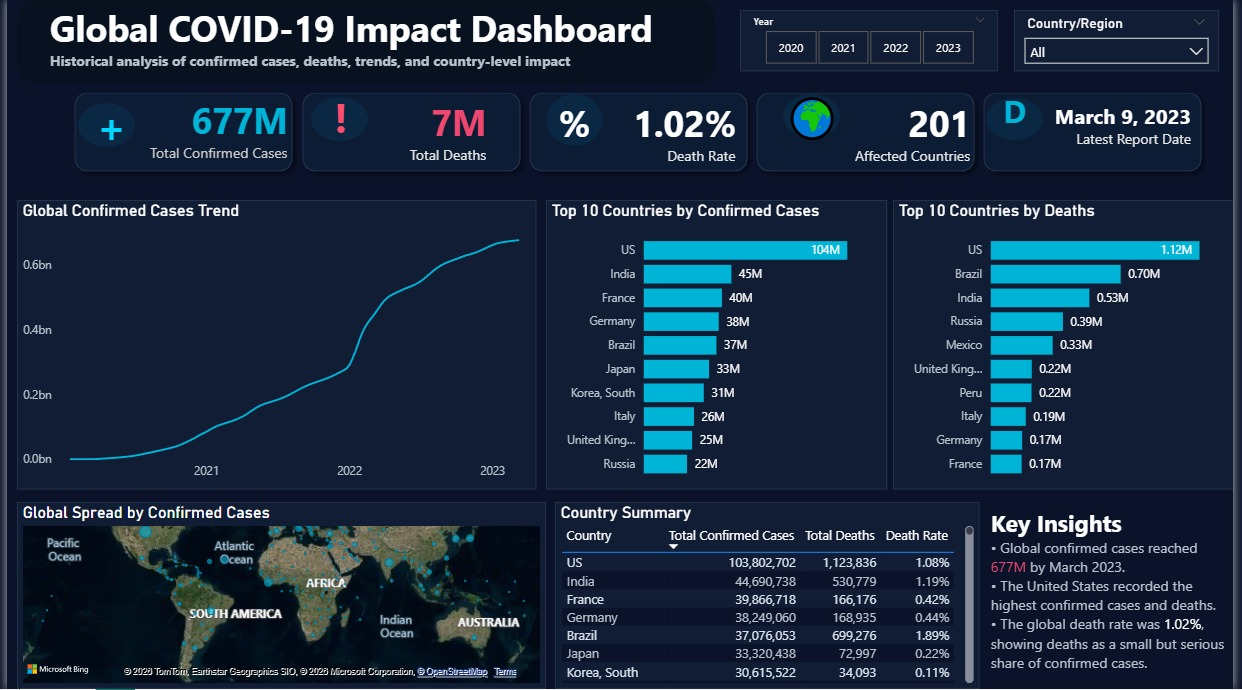

The dashboard page shown, as its layout file describes it:
{"tool":"powerbi","page":{"name":"Page 1","canvas":[1280,720],"ordinal":0},"visuals":[{"type":"shape","box":[10.1,0,729,88.9],"z":0},{"type":"textbox","box":[39.4,0,667.1,88.9],"z":1000},{"type":"slicer","fields":{"Values":["Covid-Data.Year"]},"box":[765,11.2,268.9,64.1],"z":2000},{"type":"slicer","fields":{"Values":["Covid-Data.Country/Region"]},"box":[1050.8,11.2,213.8,64.1],"z":3000},{"type":"shape","box":[61.9,88.9,245.2,100.1],"z":4000},{"type":"textbox","box":[63,95.6,235.1,84.4],"z":5000},{"type":"shape","box":[299,88.9,245.2,100.1],"z":6000},{"type":"shape","box":[536.1,88.9,245.2,100.1],"z":7000},{"type":"shape","box":[773.2,88.9,245.2,100.1],"z":8000},{"type":"shape","box":[1010.2,88.9,245.2,100.1],"z":9000},{"type":"textbox","box":[810,99,200.2,81],"z":10000},{"type":"textbox","box":[1039.5,102.4,201.4,160.9],"z":11000},{"type":"textbox","box":[347.6,97.9,157.5,91.1],"z":12000},{"type":"textbox","box":[585,99,180,81],"z":13000},{"type":"shape","box":[74.2,108,59.6,46.1],"z":14000},{"type":"textbox","box":[74.2,97.9,69.8,82.1],"z":15000},{"type":"shape","box":[810,99,59.6,46.1],"z":16000},{"type":"shape","box":[1021.5,103.5,59.6,43.9],"z":17000},{"type":"shape","box":[562.5,99,59.6,54],"z":18000},{"type":"shape","box":[317.2,102.4,59.6,46.1],"z":19000},{"type":"textbox","box":[307.1,88.9,83.2,72],"z":20000},{"type":"textbox","box":[562.5,99,59.6,59.6],"z":21000},{"type":"textbox","box":[1021.5,90,59.6,70.9],"z":22000},{"type":"textbox","box":[795.4,88.9,90,72],"z":23000},{"type":"lineChart","title":"Global Confirmed Cases Trend","fields":{"Y":["Covid-Data.Total Confirmed Cases"],"Category":["Covid-Data.Date"]},"box":[10.1,209.2,542.2,301.5],"z":24000},{"type":"clusteredBarChart","title":"Top 10 Countries by Confirmed Cases","fields":{"Category":["Covid-Data.Country/Region"],"Y":["Covid-Data.Total Confirmed Cases"]},"box":[562.5,209.2,355.5,301.5],"z":25000},{"type":"clusteredBarChart","title":"Top 10 Countries by Deaths","fields":{"Category":["Covid-Data.Country/Region"],"Y":["Covid-Data.Total Deaths"]},"box":[924.8,209.2,355.5,301.5],"z":26000},{"type":"map","title":"Global Spread by Confirmed Cases","fields":{"Category":["Covid-Data.Country/Region"],"Size":["Covid-Data.Total Confirmed Cases"],"Y":["Avg(Covid-Data.Lat)"],"X":["Avg(Covid-Data.Long)"]},"box":[10.1,525.4,552.4,194.6],"z":27000},{"type":"tableEx","title":"Country Summary","fields":{"Values":["Covid-Data.Country/Region","Covid-Data.Total Confirmed Cases","Covid-Data.Total Deaths","Covid-Data.Death Rate"]},"box":[571.5,525.4,443.2,194.6],"z":28000},{"type":"textbox","box":[1021.5,525.4,258.8,194.6],"z":28001}]}

Visuals, with their boxes in screenshot pixels (x1, y1, x2, y2), scaled from the page's 1280x720 canvas onto the 1242x690 screenshot:
shape: Rect(10, 0, 717, 85)
textbox: Rect(38, 0, 686, 85)
slicer - Covid-Data.Year: Rect(742, 11, 1003, 72)
slicer - Covid-Data.Country/Region: Rect(1020, 11, 1227, 72)
shape: Rect(60, 85, 298, 181)
textbox: Rect(61, 92, 289, 172)
shape: Rect(290, 85, 528, 181)
shape: Rect(520, 85, 758, 181)
shape: Rect(750, 85, 988, 181)
shape: Rect(980, 85, 1218, 181)
textbox: Rect(786, 95, 980, 172)
textbox: Rect(1009, 98, 1204, 252)
textbox: Rect(337, 94, 490, 181)
textbox: Rect(568, 95, 742, 172)
shape: Rect(72, 104, 130, 148)
textbox: Rect(72, 94, 140, 172)
shape: Rect(786, 95, 844, 139)
shape: Rect(991, 99, 1049, 141)
shape: Rect(546, 95, 604, 147)
shape: Rect(308, 98, 366, 142)
textbox: Rect(298, 85, 379, 154)
textbox: Rect(546, 95, 604, 152)
textbox: Rect(991, 86, 1049, 154)
textbox: Rect(772, 85, 859, 154)
"Global Confirmed Cases Trend" lineChart: Rect(10, 200, 536, 489)
"Top 10 Countries by Confirmed Cases" clusteredBarChart: Rect(546, 200, 891, 489)
"Top 10 Countries by Deaths" clusteredBarChart: Rect(897, 200, 1241, 489)
"Global Spread by Confirmed Cases" map: Rect(10, 504, 546, 689)
"Country Summary" tableEx: Rect(555, 504, 985, 689)
textbox: Rect(991, 504, 1241, 689)
